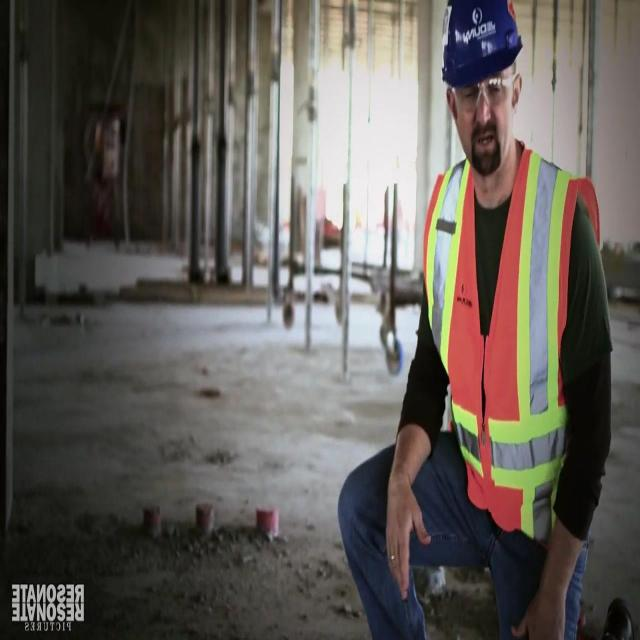Reflective-Jacket: (416, 149, 602, 551)
Safety-Helmet: (432, 0, 529, 100)
